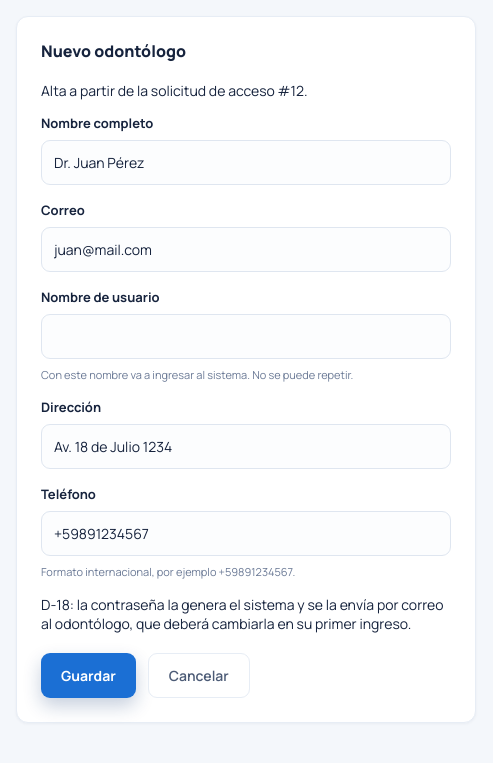
Test: OdontologoFormulario › un nombre de usuario repetido muestra el error sobre su campo
Type "jperez" into the field labelled "Nombre de usuario". click: (246, 336)
box: x1=41 y1=314 x2=451 y2=359
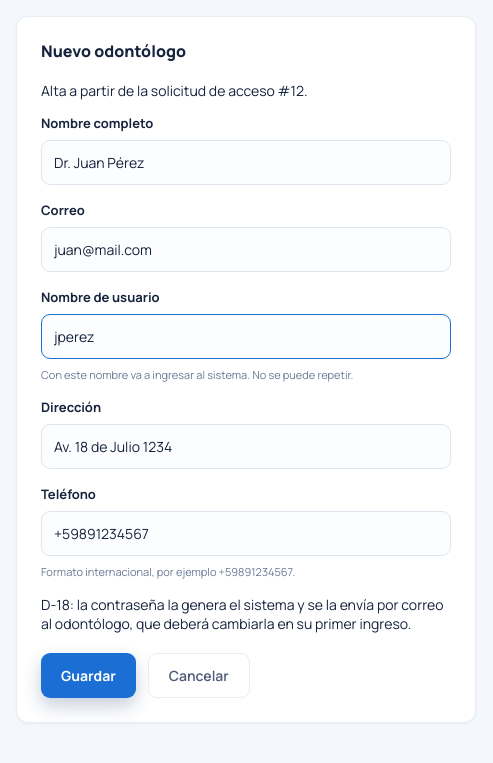
Click the button "Guardar". click: (88, 676)
box: x1=41 y1=653 x2=136 y2=698
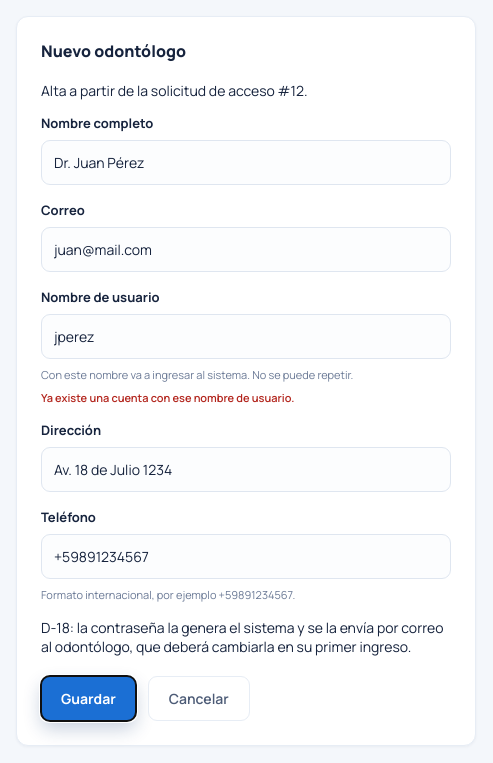
expect the text "Ya existe una cuenta con ese nombre de usuario." is shown: met, box x1=41 y1=390 x2=294 y2=405
